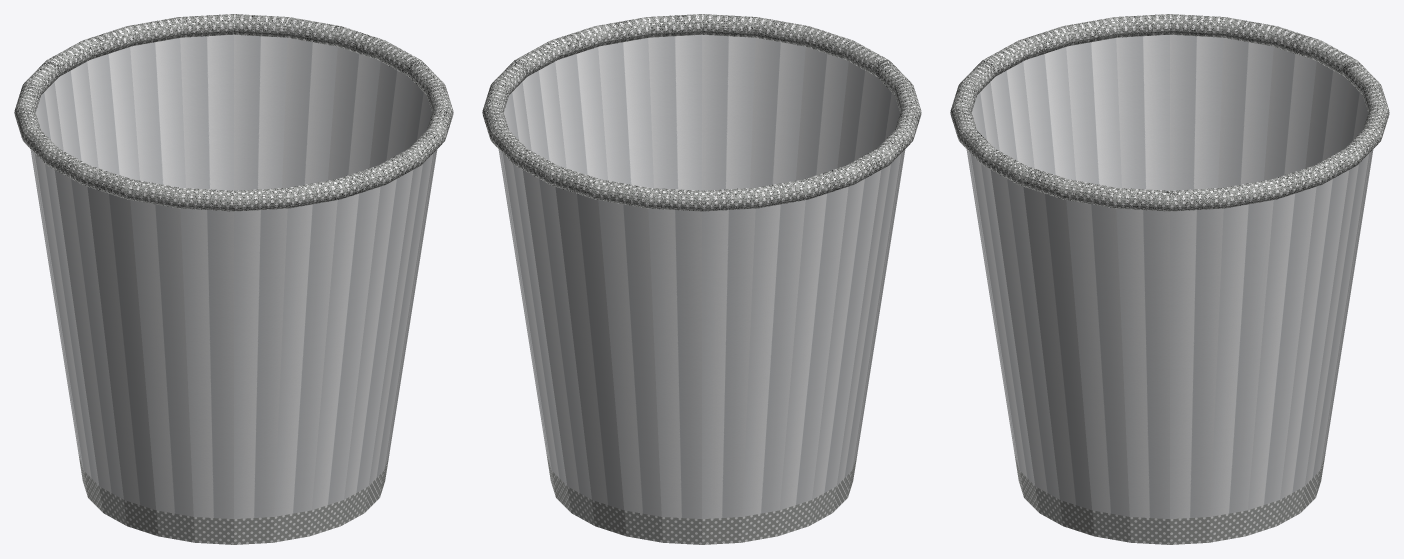
3 renders of one model, left to right at view 1: azimuth 30°, elevation 25°; view 2: azimuth 150°, elevation 25°; view 3: azimuth 270°, elevation 25°, orthographic.
Parts seen in each view (by area): view 1: mesh1_mesh1-geometry, mesh2_mesh2-geometry; view 2: mesh1_mesh1-geometry, mesh2_mesh2-geometry; view 3: mesh1_mesh1-geometry, mesh2_mesh2-geometry.
Part boxes in pixels (<box>): mesh1_mesh1-geometry: <box>30,34,437,544</box>; mesh2_mesh2-geometry: <box>14,14,453,211</box>; mesh1_mesh1-geometry: <box>498,34,905,544</box>; mesh2_mesh2-geometry: <box>482,14,921,211</box>; mesh1_mesh1-geometry: <box>966,34,1373,544</box>; mesh2_mesh2-geometry: <box>950,14,1389,211</box>.
Bounding box in the file's own units: 0.5871 × 0.5572 × 0.5871.
